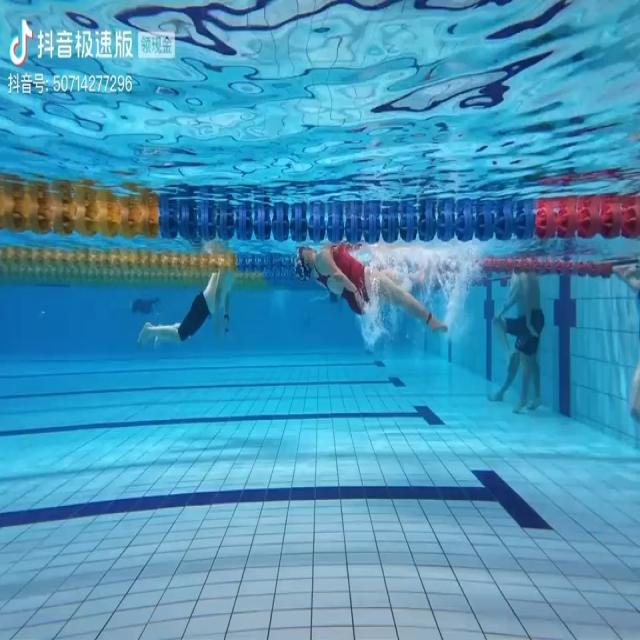Swimming: (292, 239, 450, 332), (139, 268, 242, 351)
